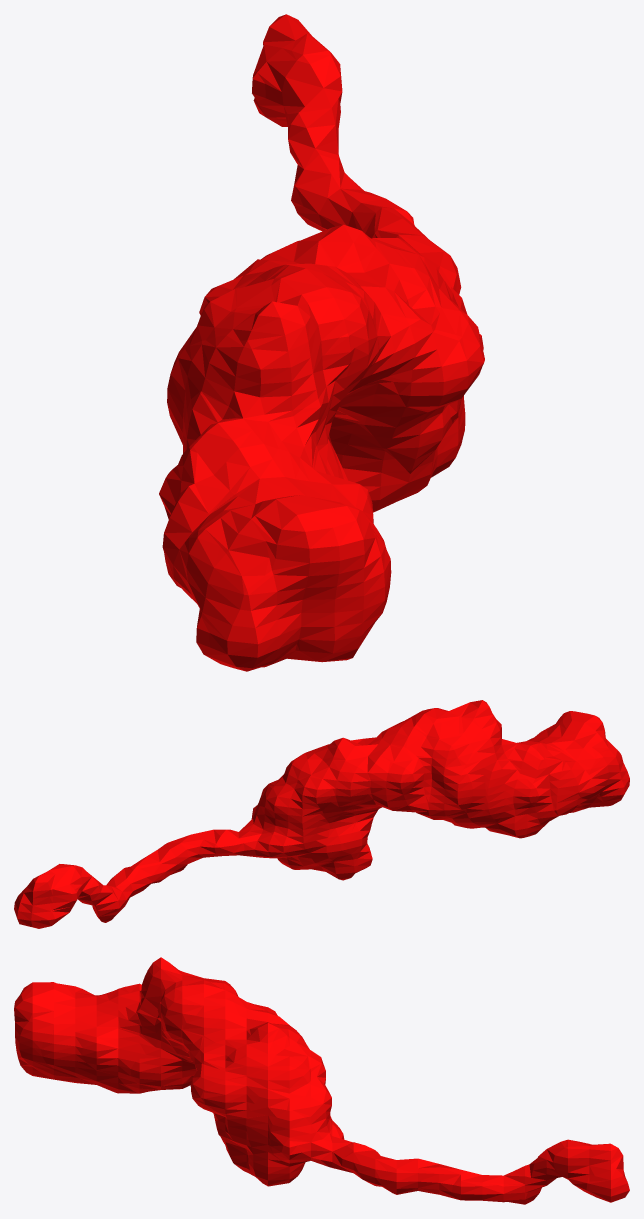
The model's file is nhaB_coarse.dae.
The picture shows the model from 3 angles, top to bottom: view 1: azimuth 30°, elevation 25°; view 2: azimuth 150°, elevation 25°; view 3: azimuth 270°, elevation 25°; orthographic projection. The views are drawn at different scales.
Parts seen in each view (by area): view 1: nhaB; view 2: nhaB; view 3: nhaB.
Part boxes in pixels (x1,y1,x2,y2): nhaB: [159, 14, 484, 671]; nhaB: [14, 700, 629, 928]; nhaB: [14, 957, 629, 1204].
Bounding box in the file's own units: 124 × 56.86 × 188.
